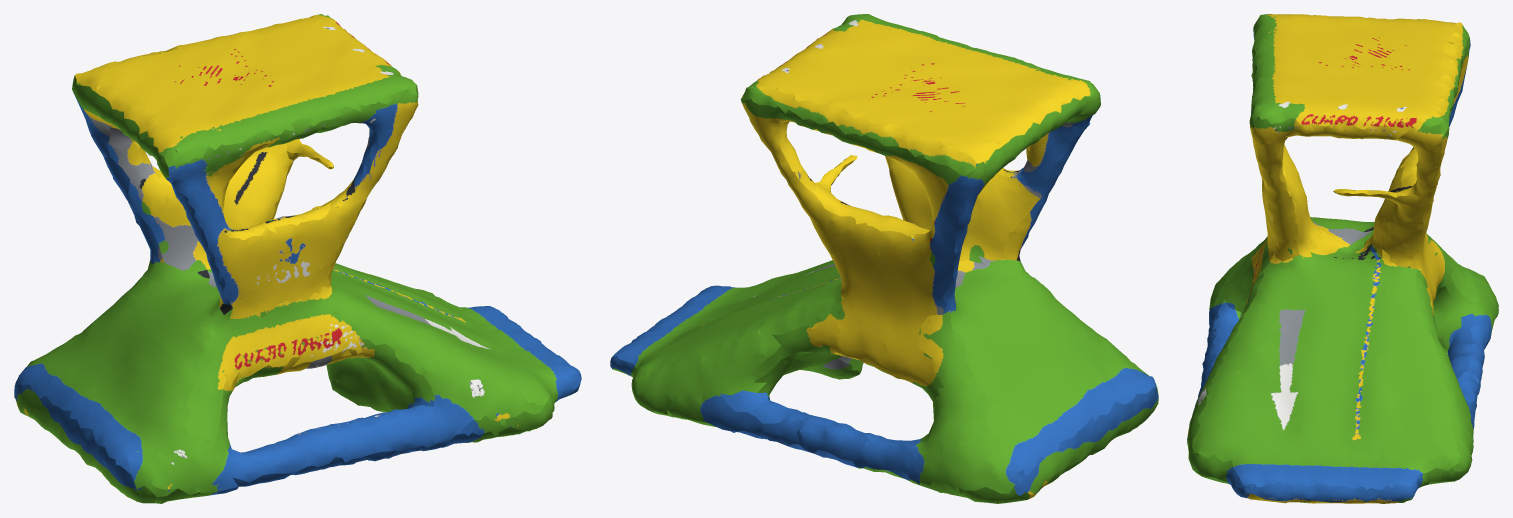
File: guardtower.glb
The picture shows the model from 3 angles, left to right: view 1: azimuth 30°, elevation 25°; view 2: azimuth 150°, elevation 25°; view 3: azimuth 270°, elevation 25°; orthographic projection. The views are drawn at different scales.
Visible parts, largest first — view 1: geometry_0; view 2: geometry_0; view 3: geometry_0.
Part boxes in pixels (left/top/right/bottom): geometry_0: left=14, top=14, right=581, bottom=503; geometry_0: left=610, top=14, right=1158, bottom=503; geometry_0: left=1187, top=14, right=1498, bottom=503.
Size of the model in its own units: 1 by 0.7226 by 0.6256.
Materials: 1 (1 with a texture image).
